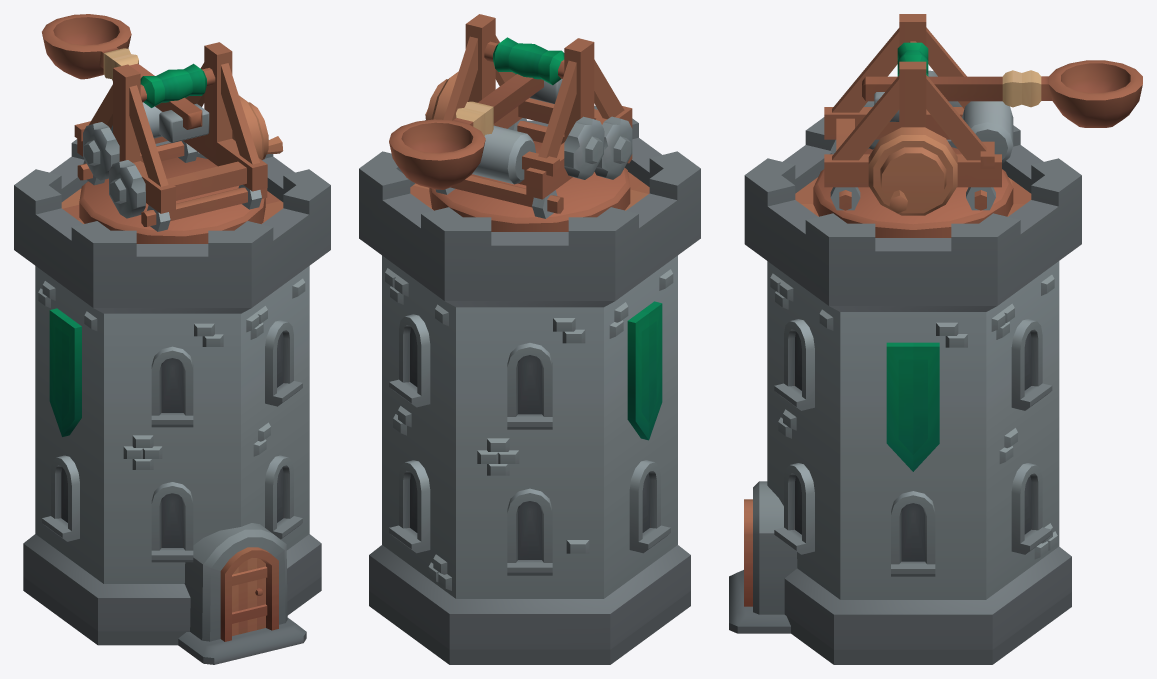
The model's file is kay-torre-catapulta-verde.gltf.
3 renders of one model, left to right at view 1: azimuth 30°, elevation 25°; view 2: azimuth 150°, elevation 25°; view 3: azimuth 270°, elevation 25°, orthographic. The views are drawn at different scales.
Parts seen in each view (by area): view 1: building_tower_catapult_green; view 2: building_tower_catapult_green; view 3: building_tower_catapult_green.
Boxes of the visible parts, left/top/right/bottom form: building_tower_catapult_green: left=14, top=14, right=330, bottom=664; building_tower_catapult_green: left=359, top=14, right=700, bottom=664; building_tower_catapult_green: left=729, top=14, right=1142, bottom=664.
Size of the model in its own units: 4.65 by 9.82 by 6.52.
1 material, 1 textured.
